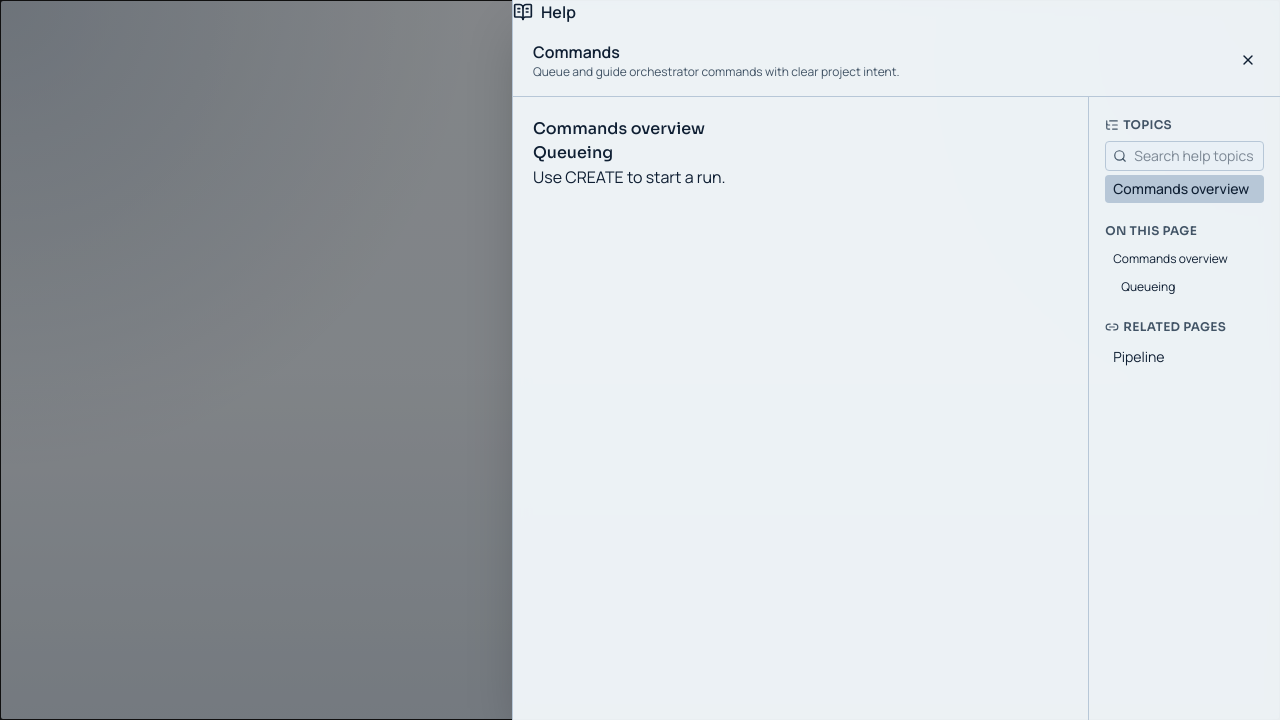
HelpPanel › searches and groups page/topic results
Type "gate" into the field labelled "Search help topics".
click(1185, 156); type("gate")  # box top-left (1105, 141), bottom-right (1264, 171)
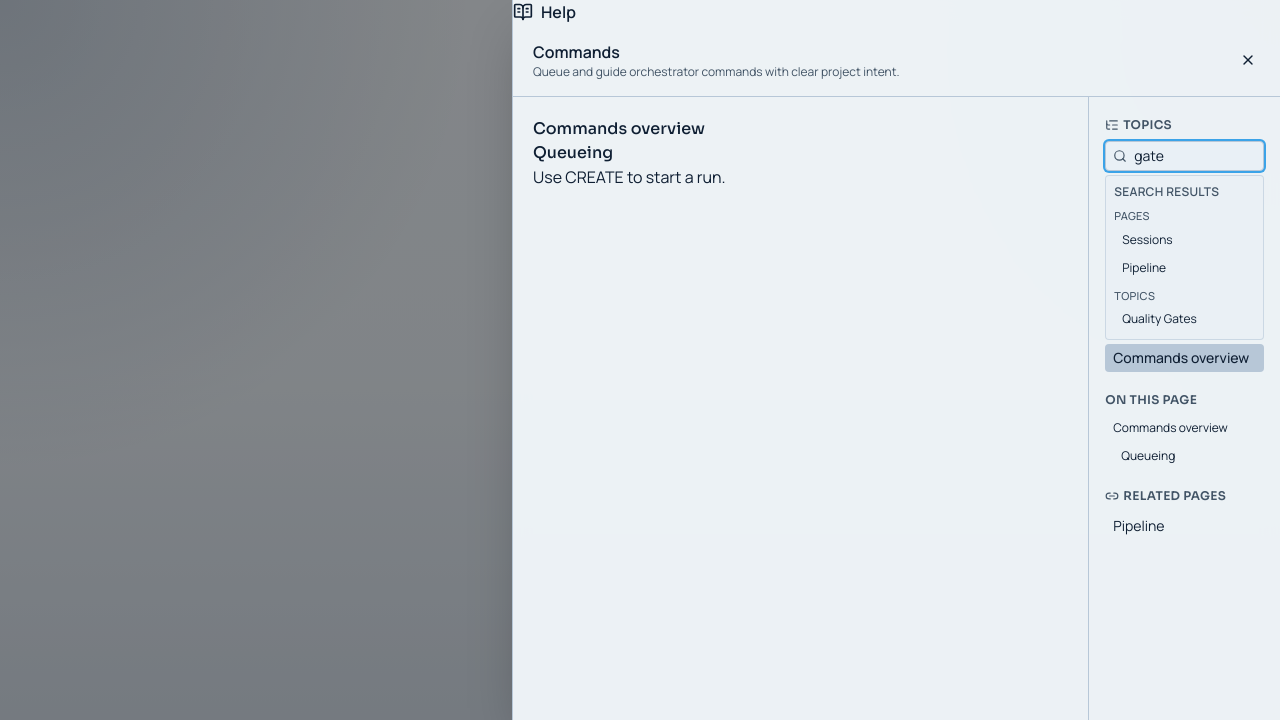
Expected: the button "Pipeline" is shown, top-left (1114, 256), bottom-right (1255, 280)
Expected: the button "Sessions" is shown, top-left (1114, 228), bottom-right (1255, 252)
Expected: the button "Quality Gates" is shown, top-left (1114, 307), bottom-right (1255, 331)
